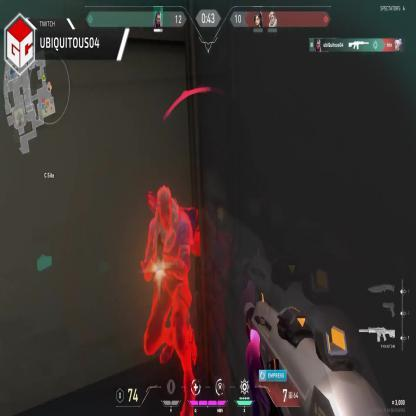enemy: (140, 184, 201, 416)
enemy_head: (156, 187, 173, 231)
